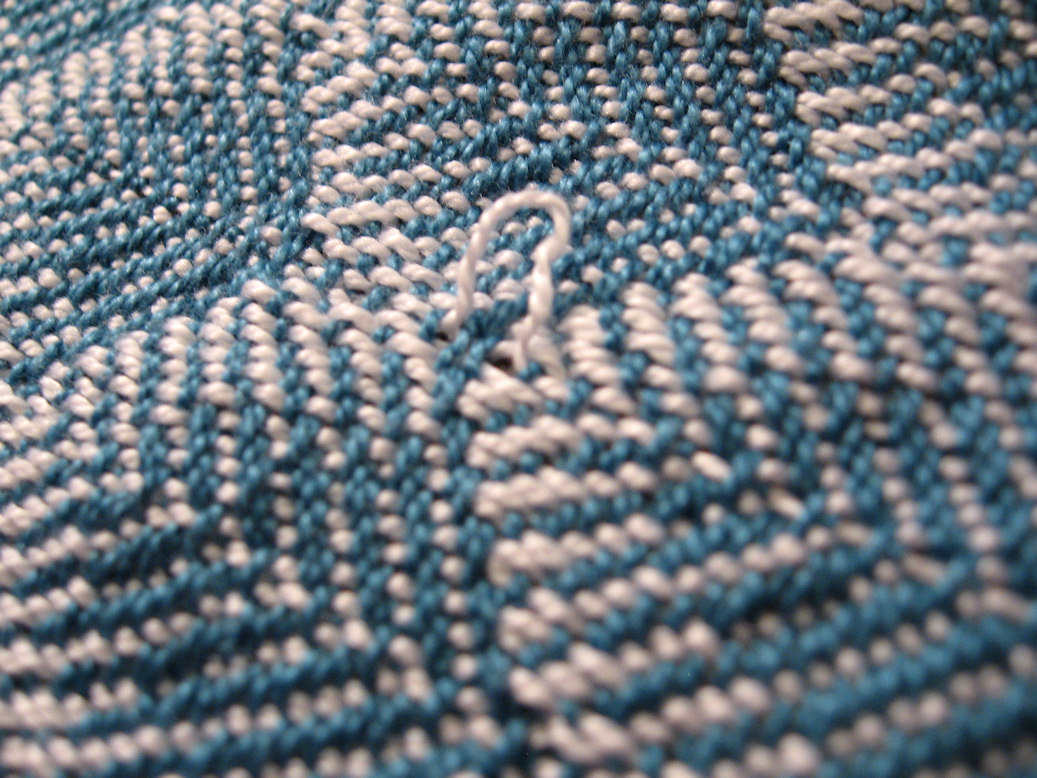snag: (442, 163, 576, 359)
